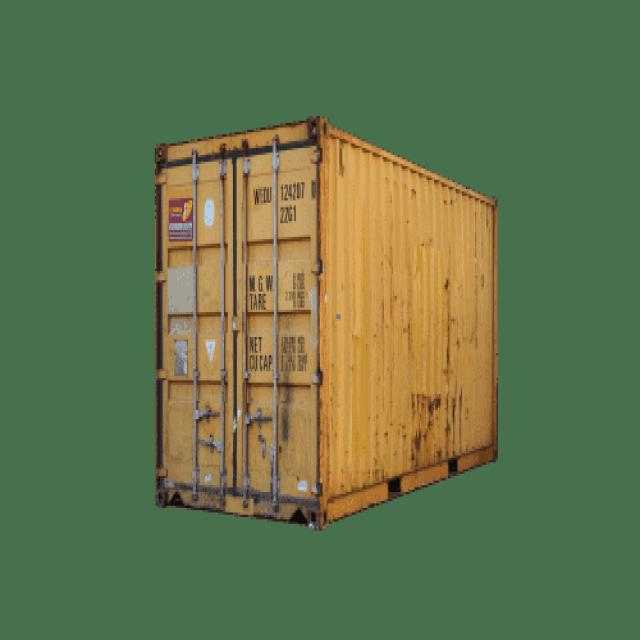rust: (412, 391, 443, 460), (445, 384, 465, 455)
